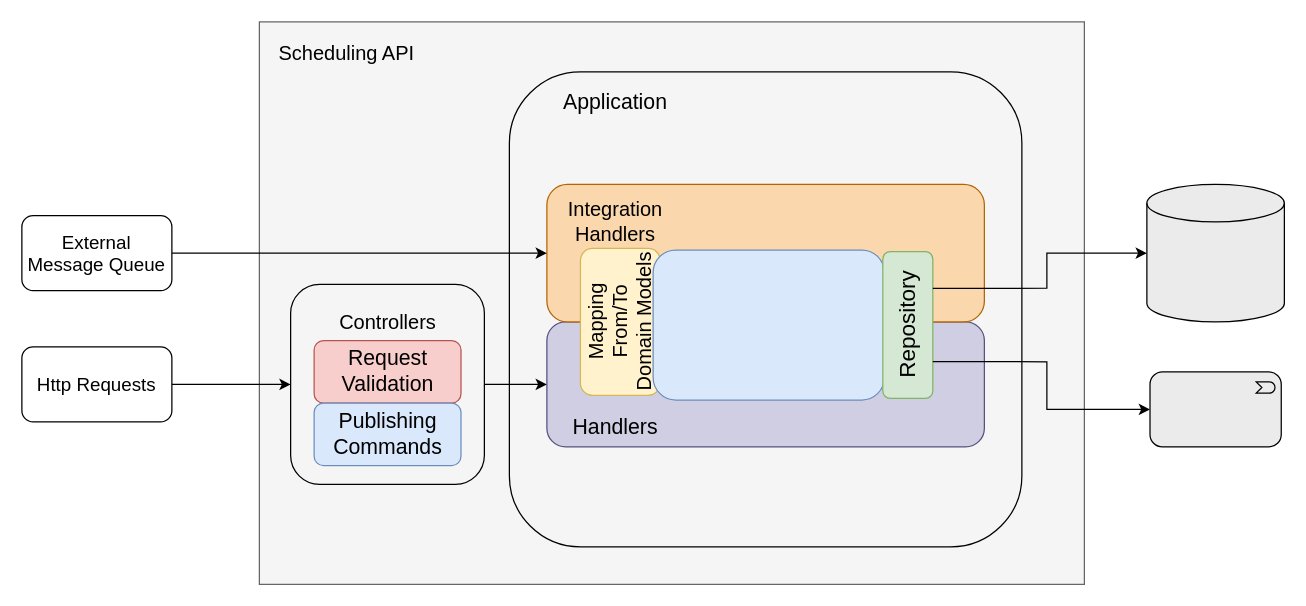
Image size: 1306x606. Some labels were removed from this diagram. The shapes that lost their labels are listed below. From the top down, each one's box as (x1, y1, x2, y2) in pixels, then its label:
(1146, 183, 1284, 322): Scheduling Database
(652, 249, 884, 400): Domain Logic
(1149, 371, 1281, 447): Domain Events
